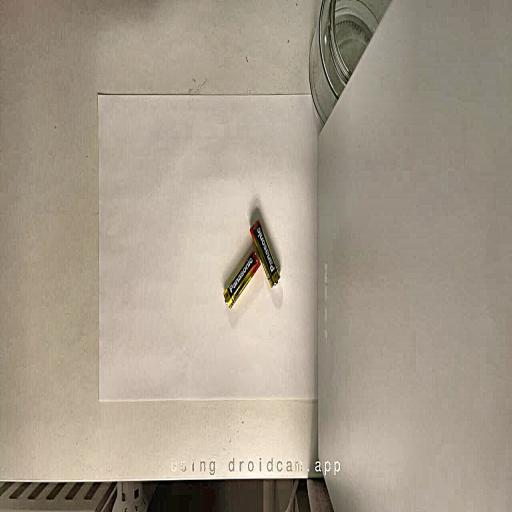PanasonicAA: (224, 250, 260, 308), (250, 219, 280, 287)
